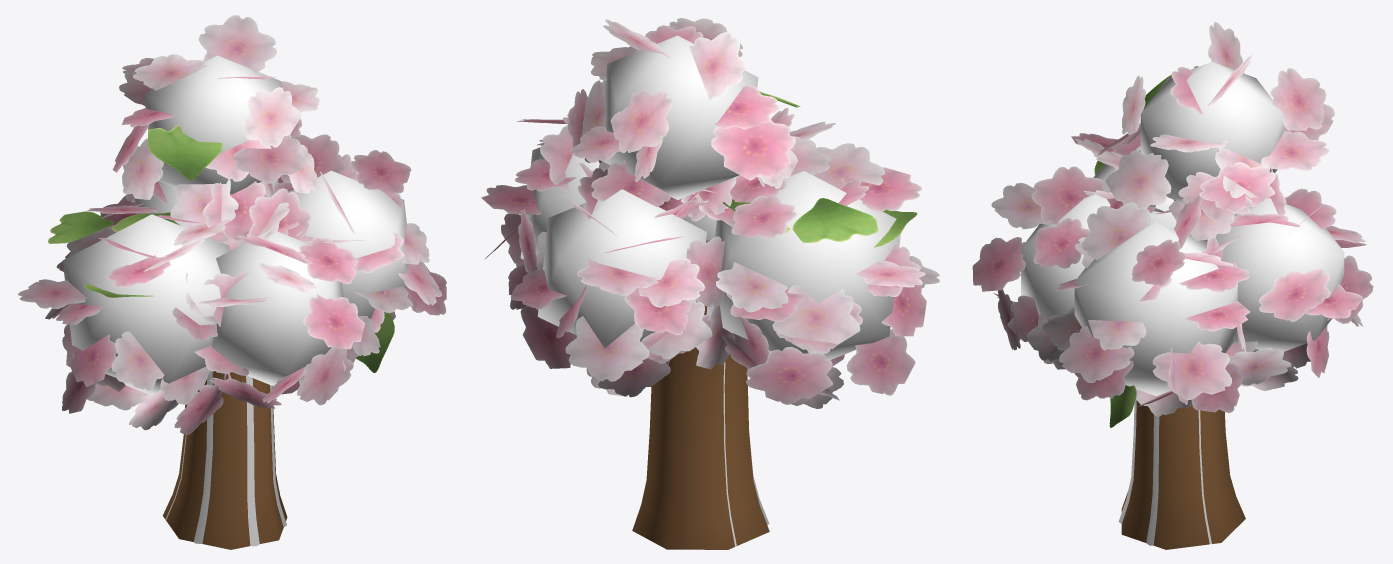
Rendered from tree-tall-blossom.lod1.glb.
3 views of the same model, side by side, from view 1: azimuth 30°, elevation 25°; view 2: azimuth 150°, elevation 25°; view 3: azimuth 270°, elevation 25° (orthographic). The views are drawn at different scales.
Visible parts, largest first — view 1: Crown, Hull, Trunk, Stem; view 2: Crown, Hull, Trunk; view 3: Crown, Hull, Trunk, Stem.
Boxes of the visible parts, x1,y1,x2,y2 form: Crown: (18,15,446,434); Hull: (62,55,408,395); Trunk: (162,371,287,549); Stem: (165,371,286,546); Crown: (481,18,939,408); Hull: (520,35,900,359); Trunk: (632,306,769,549); Crown: (972,22,1373,427); Hull: (1021,62,1344,396); Trunk: (1121,400,1245,549); Stem: (1118,399,1211,545).
Size of the model in its own units: 3.08 by 3.52 by 2.68.
4 materials, 1 textured.
